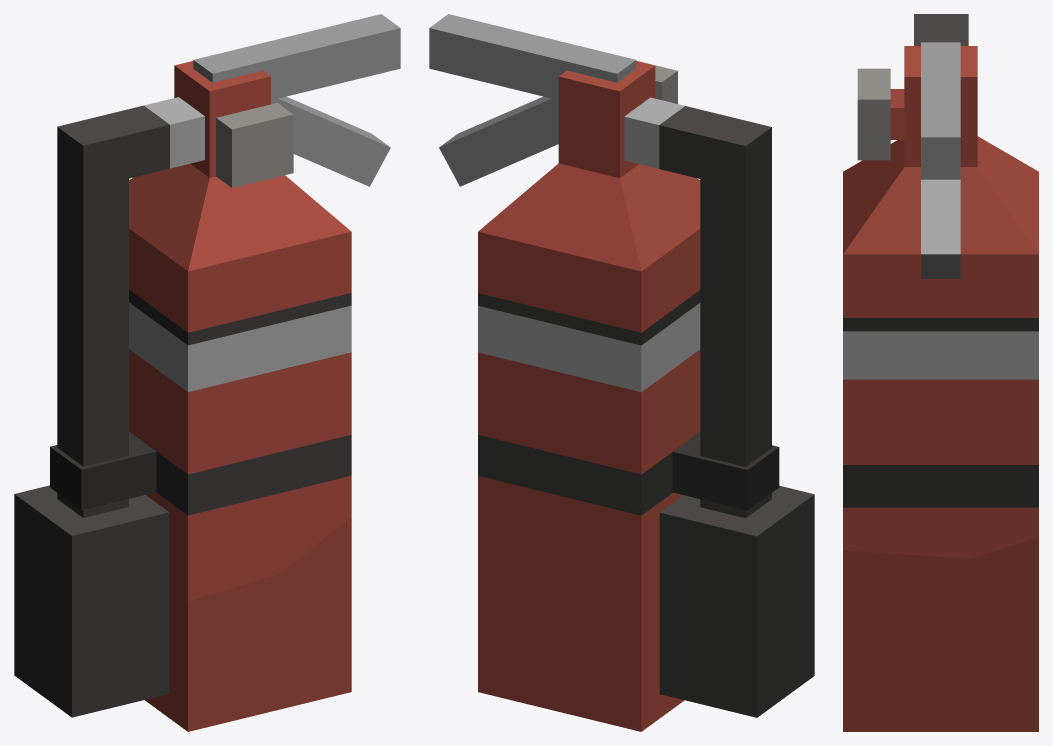
The model's file is AI_Item_FireExtinguisherw.fbx.
The picture shows the model from 3 angles, left to right: view 1: azimuth 30°, elevation 25°; view 2: azimuth 150°, elevation 25°; view 3: azimuth 270°, elevation 25°; orthographic projection. The views are drawn at different scales.
Visible parts, largest first — view 1: AI_Item_FireExtinguisherw; view 2: AI_Item_FireExtinguisherw; view 3: AI_Item_FireExtinguisherw.
Boxes of the visible parts, x1,y1,x2,y2 form: AI_Item_FireExtinguisherw: [14, 14, 400, 731]; AI_Item_FireExtinguisherw: [429, 14, 814, 731]; AI_Item_FireExtinguisherw: [843, 14, 1038, 731].
Size of the model in its own units: 0.6409 by 1.08 by 0.3016.
